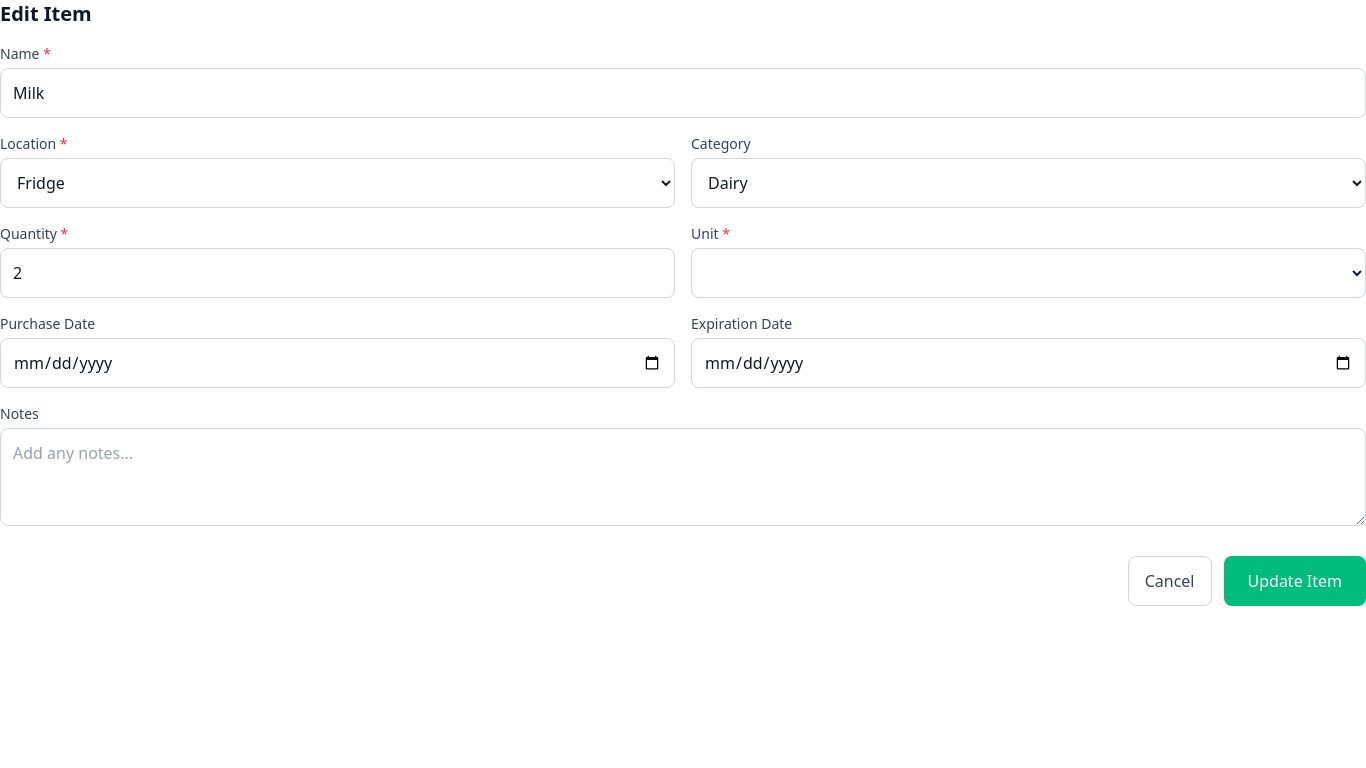
ItemForm › opens remove confirm on edit when quantity is 0 and does not submit until Remove
Step 1. Replace the text in the number field labelled "Quantity *" with "0" → coordinates (338, 273), box [0, 248, 675, 298]
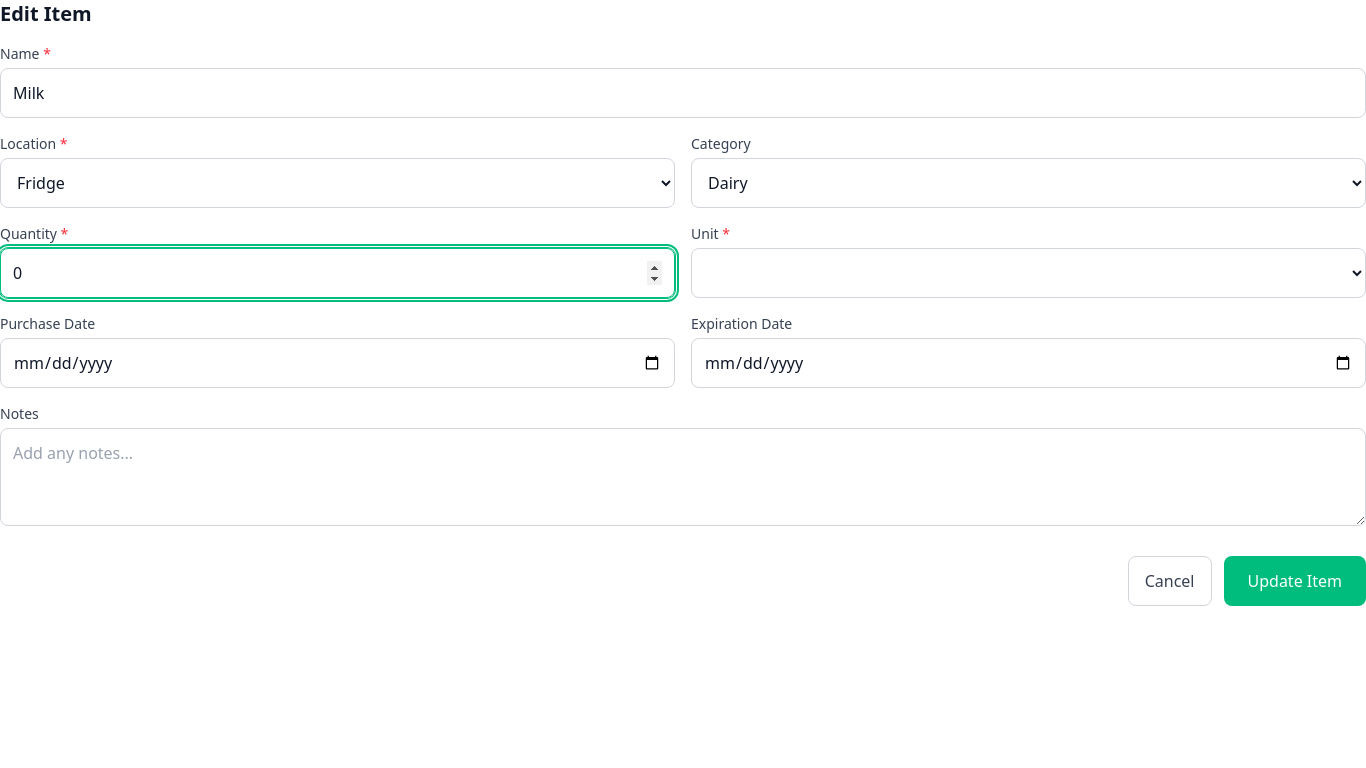
Step 2. Click the button "Update Item" → coordinates (1295, 581), box [1224, 556, 1365, 606]
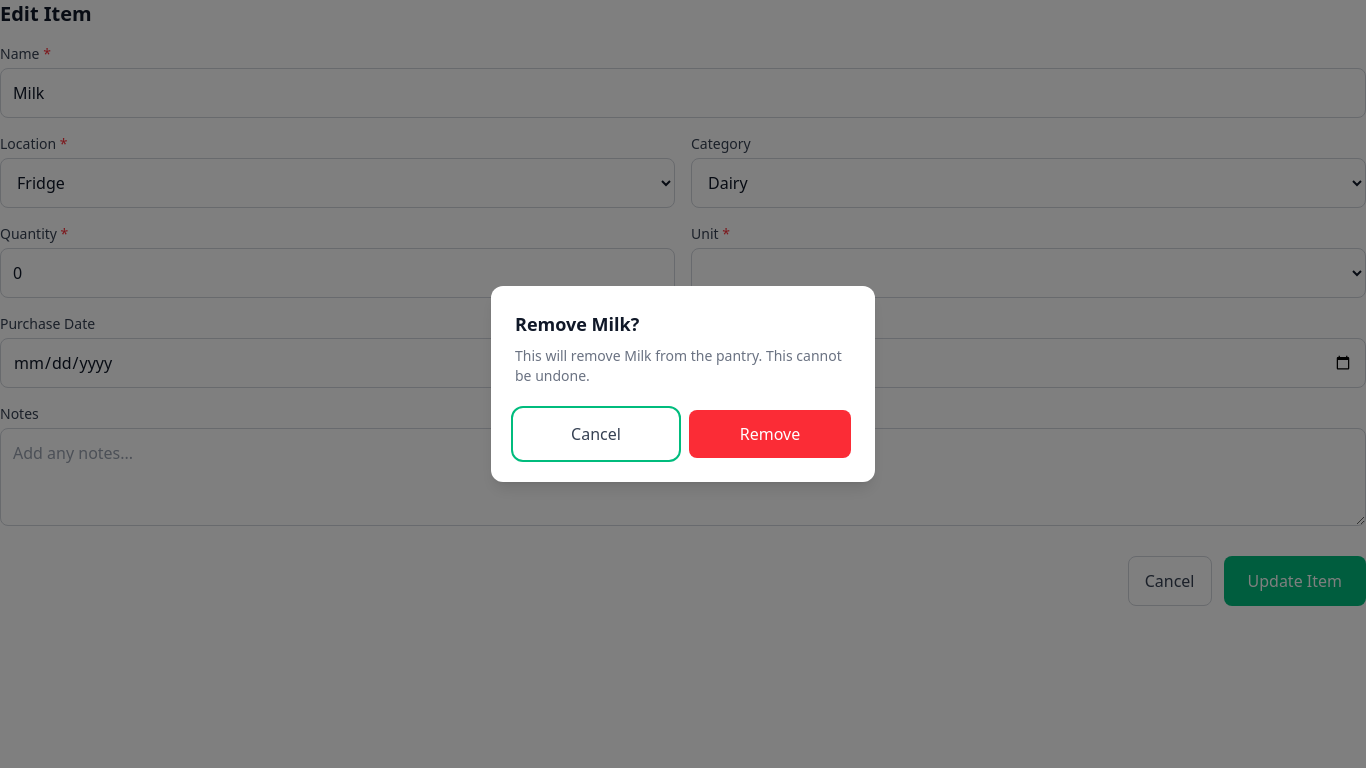
expect the dialog shows "Remove Milk?": met, box [515, 312, 639, 336]
expect the dialog shows "This will remove Milk from the pantry. This cannot be undone.": met, box [515, 346, 842, 385]
expect the button "Remove" is shown: met, box [689, 410, 851, 458]
